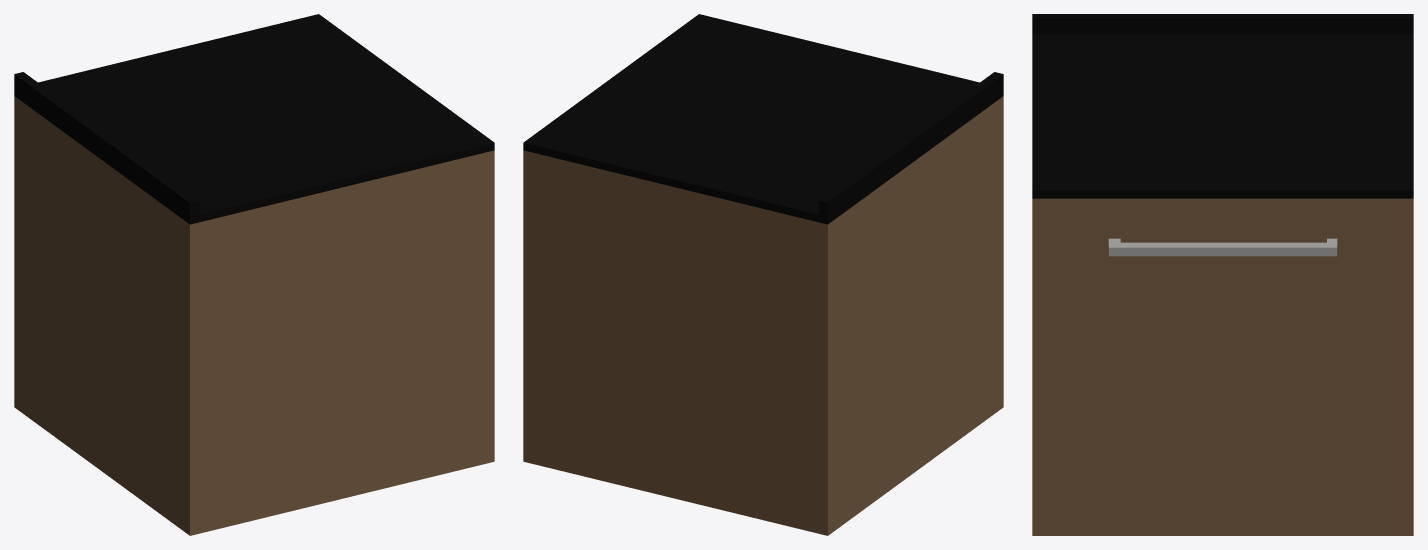
File: CounterUV.fbx
3 views of the same model, side by side, from view 1: azimuth 30°, elevation 25°; view 2: azimuth 150°, elevation 25°; view 3: azimuth 270°, elevation 25° (orthographic). The views are drawn at different scales.
Visible parts, largest first — view 1: Counter:pCube2; view 2: Counter:pCube2; view 3: Counter:pCube2.
Part boxes in pixels (bbox=[...]): Counter:pCube2: bbox=[14, 14, 494, 535]; Counter:pCube2: bbox=[523, 14, 1003, 535]; Counter:pCube2: bbox=[1032, 14, 1413, 535].
Bounding box in the file's own units: 1.06 × 1.04 × 1.
